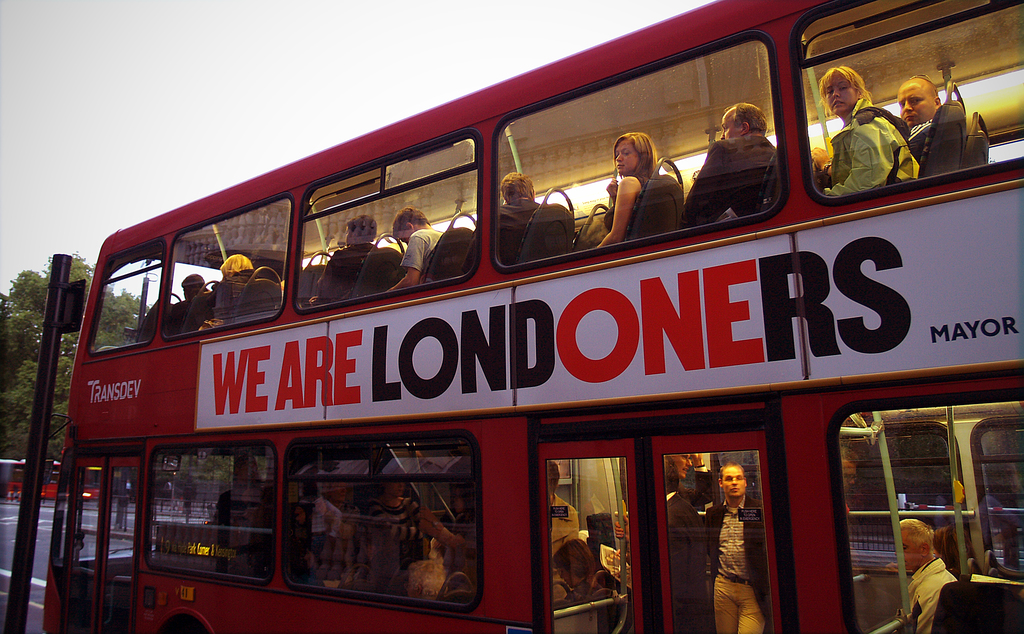Person: (133, 64, 981, 634)
